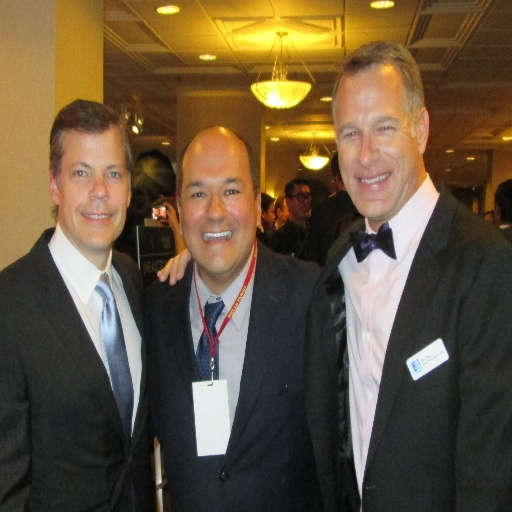hand: (150, 248, 187, 299), (159, 201, 179, 227)
